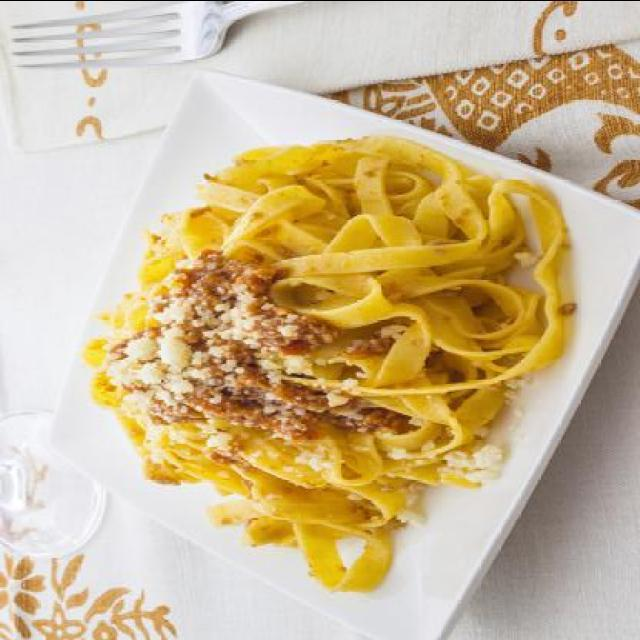Pasta al ragu: (37, 122, 568, 562)
